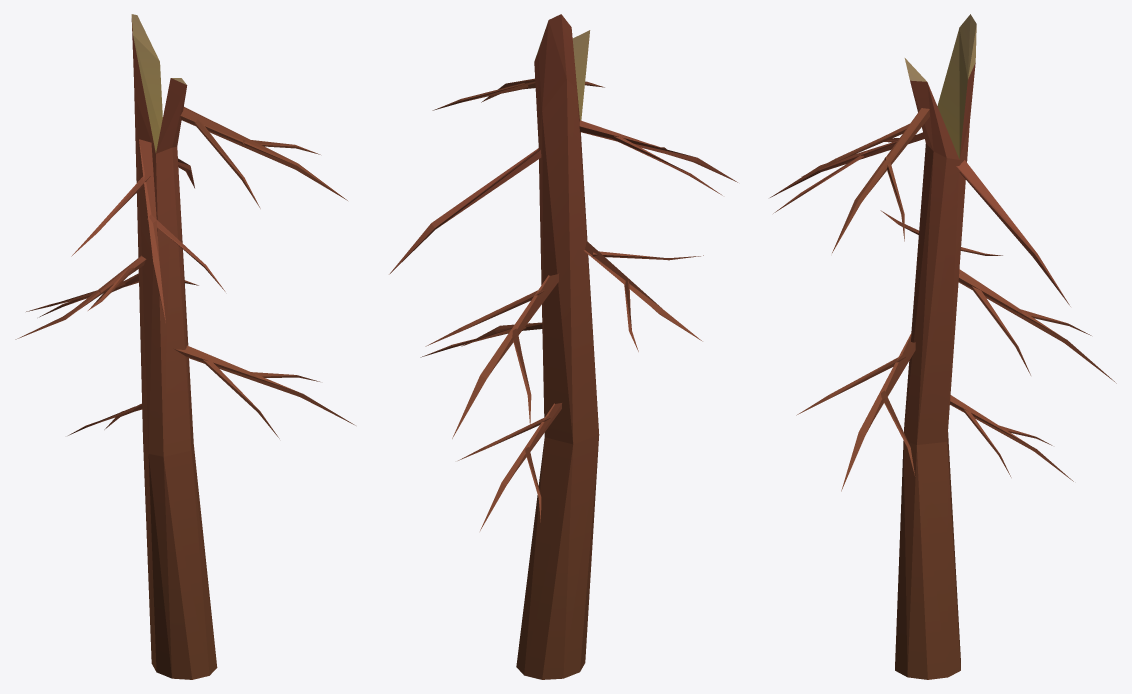
File: treedamaged2.glb
The picture shows the model from 3 angles, left to right: view 1: azimuth 30°, elevation 25°; view 2: azimuth 150°, elevation 25°; view 3: azimuth 270°, elevation 25°; orthographic projection. The views are drawn at different scales.
Visible parts, largest first — view 1: MAT_MAIN4; view 2: MAT_MAIN4; view 3: MAT_MAIN4.
Part boxes in pixels (box(x1,y1,x2,y2)): MAT_MAIN4: box(15, 14, 355, 679); MAT_MAIN4: box(389, 14, 737, 679); MAT_MAIN4: box(770, 14, 1116, 679).
Size of the model in its own units: 3.59 by 7.61 by 3.79.
1 material, 1 textured.
